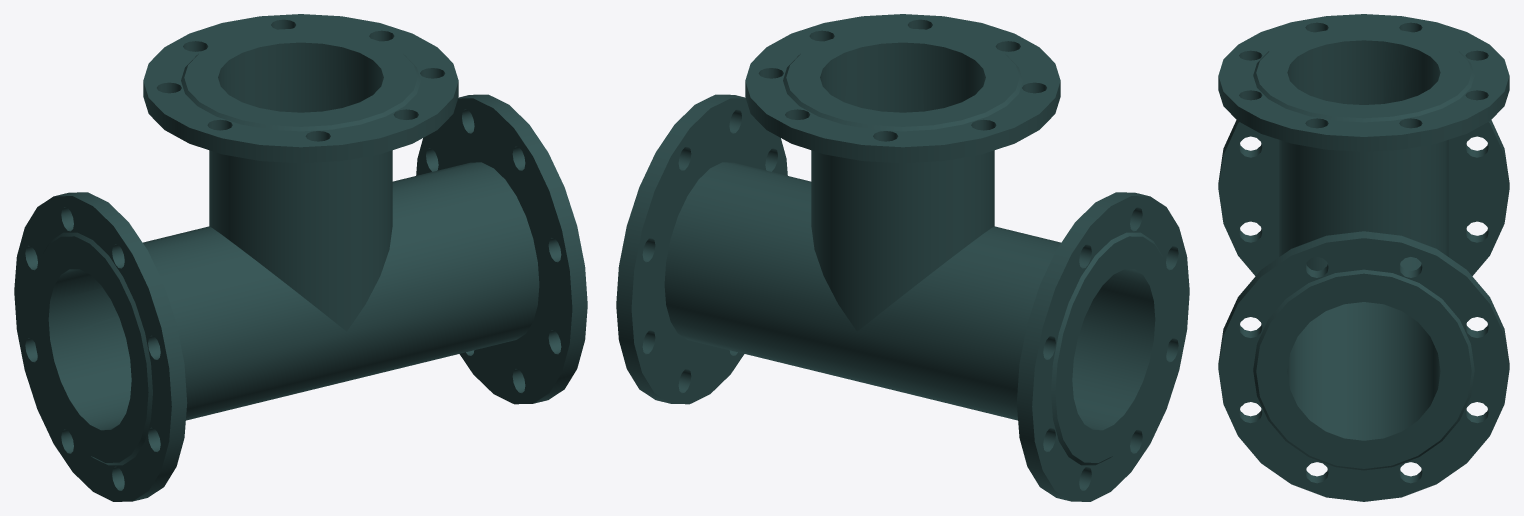
Rendered from AFT.glb.
3 views of the same model, side by side, from view 1: azimuth 30°, elevation 25°; view 2: azimuth 150°, elevation 25°; view 3: azimuth 270°, elevation 25° (orthographic). The views are drawn at different scales.
Visible parts, largest first — view 1: RFT---1515FL16EET(400); view 2: RFT---1515FL16EET(400); view 3: RFT---1515FL16EET(400).
Boxes of the visible parts, <box> form: RFT---1515FL16EET(400): <box>14,14,587,501</box>; RFT---1515FL16EET(400): <box>616,14,1189,501</box>; RFT---1515FL16EET(400): <box>1218,14,1509,501</box>.
Bounding box in the file's own units: 0.44 × 0.3625 × 0.285.
